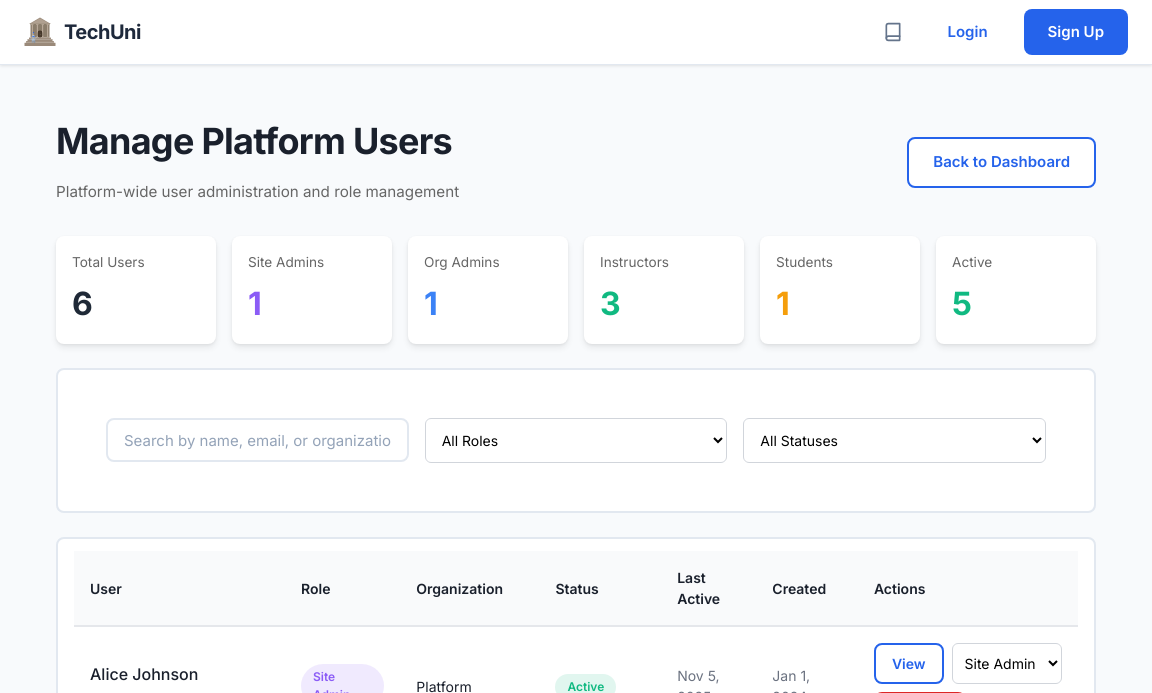
Test: ManageUsers Component › Search and Filtering › filters users by status
Select "Suspended" in the 2nd dropdown showing "All Statuses": (895, 441) x1=743 y1=418 x2=1046 y2=463
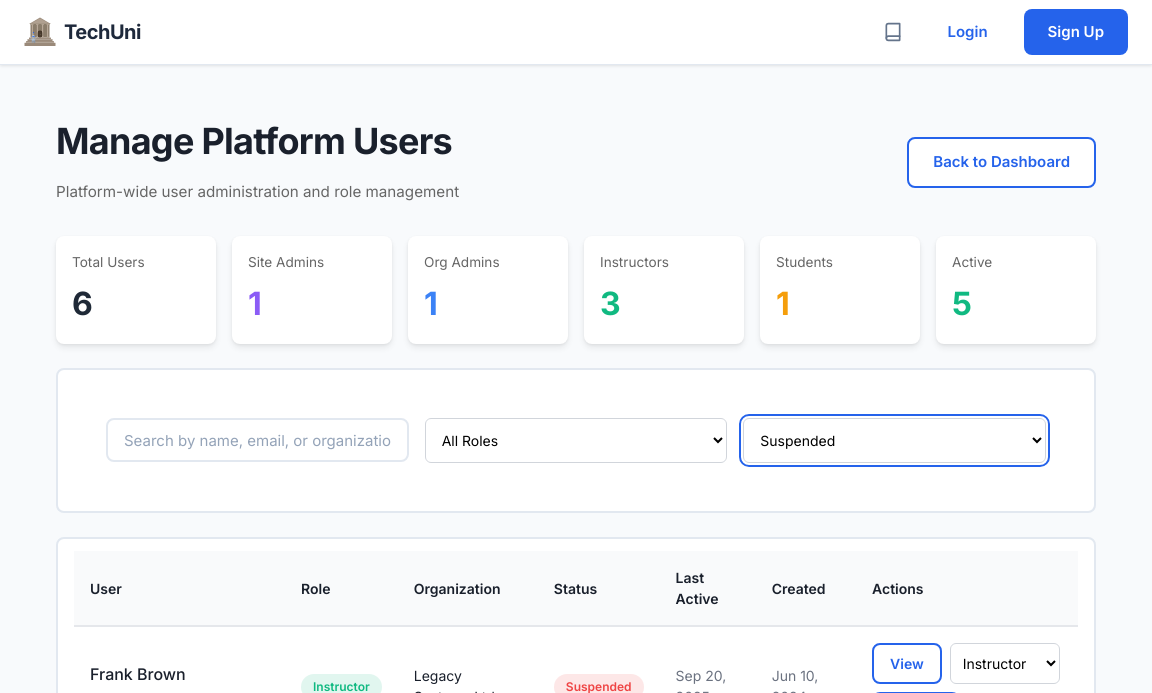
expect the text "Frank Brown" is shown: met, box x1=90 y1=664 x2=186 y2=684
expect the text "Alice Johnson" is gone: met
